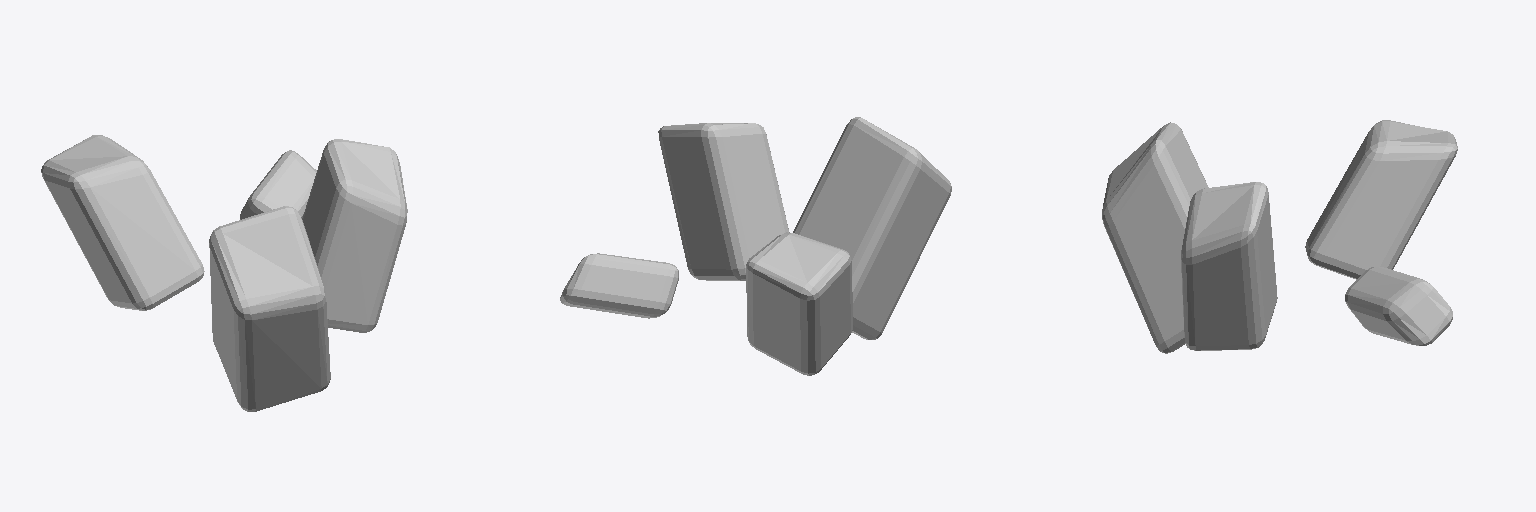
Rendered from copper_ore.metal.obj.
The picture shows the model from 3 angles: view 1: azimuth 30°, elevation 25°; view 2: azimuth 150°, elevation 25°; view 3: azimuth 270°, elevation 25°; orthographic projection.
Visible parts, largest first — view 1: Cube.003; view 2: Cube.003; view 3: Cube.003.
Boxes of the visible parts, x1,y1,x2,y2 form: Cube.003: [41, 135, 407, 411]; Cube.003: [560, 117, 951, 375]; Cube.003: [1102, 120, 1457, 353].
Bounding box in the file's own units: 2.25 × 1.7 × 2.59.